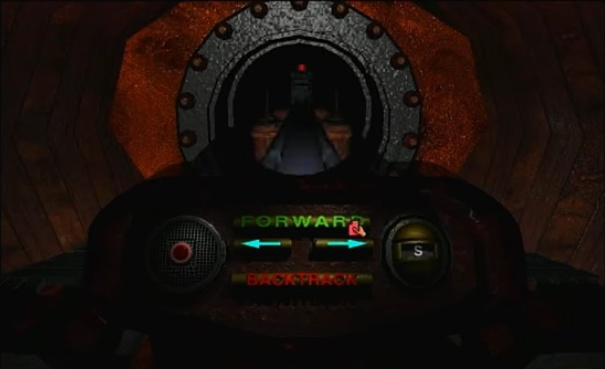Keep: (345, 219, 368, 239)
